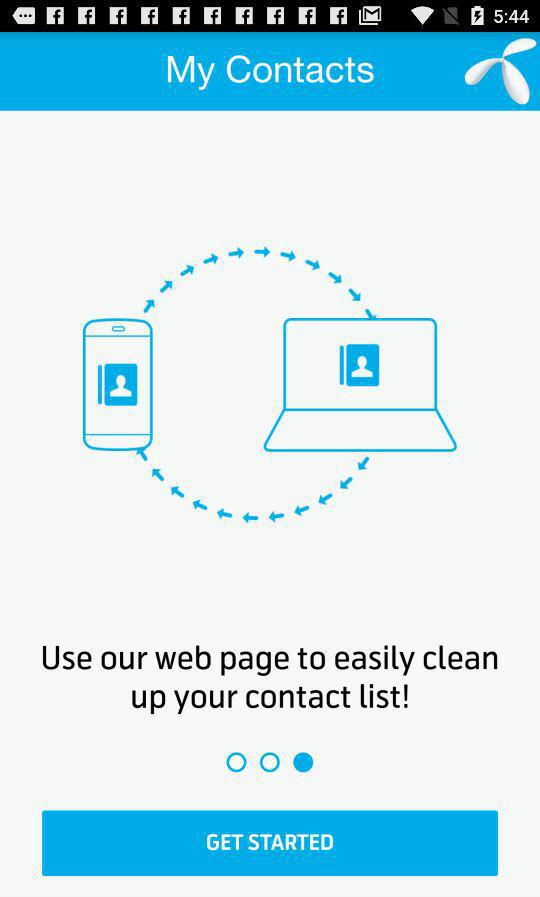Image: (83, 245, 459, 525), (464, 38, 537, 106)
PageIndicator: (226, 751, 315, 773)
Text: (42, 644, 498, 716), (167, 55, 376, 93)
TextButton: (43, 810, 499, 877)
UpperTaskBar: (1, 1, 540, 33)
